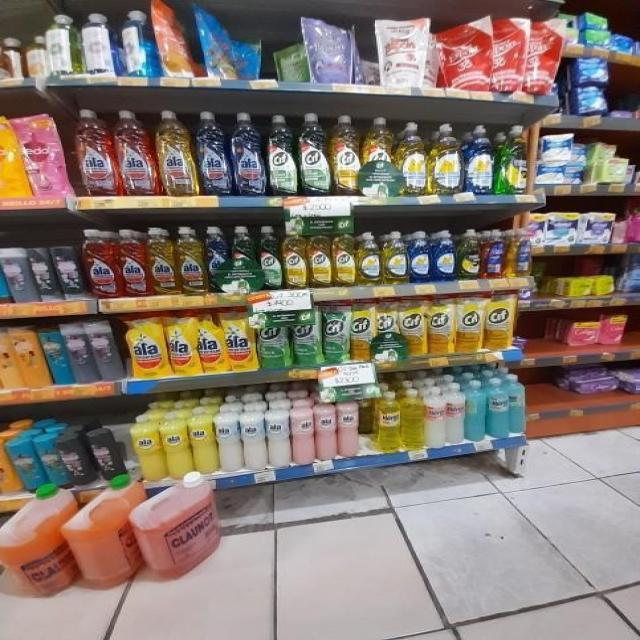ala_conc_amarillo: (156, 109, 195, 197), (147, 227, 175, 296), (177, 227, 205, 295)
ala_conc_azul: (231, 111, 265, 197), (196, 110, 229, 196), (206, 226, 230, 294)
ala_conc_rojo: (74, 108, 114, 197), (117, 109, 155, 197), (83, 228, 118, 299), (118, 228, 146, 298)
ala_crem_amarillo: (131, 415, 162, 481), (163, 409, 189, 479), (190, 406, 215, 475)
ala_crem_blanco: (242, 406, 266, 471), (217, 407, 240, 473), (266, 405, 290, 468)
ala_crem_rosado: (292, 403, 314, 466), (316, 401, 336, 462), (338, 401, 359, 459)
ala_sachet_amarillo: (127, 314, 166, 380), (225, 309, 256, 372), (168, 313, 196, 376), (197, 311, 224, 374)
cif_conc_bot_amarilla: (362, 116, 396, 196), (332, 114, 361, 196), (283, 226, 307, 289), (309, 229, 331, 289), (333, 230, 355, 287)
cif_conc_botella_verde: (266, 114, 297, 196), (299, 112, 329, 196), (231, 225, 258, 293), (259, 226, 282, 290)
cif_conc_sachet_amarillo: (486, 292, 516, 351), (456, 294, 484, 354), (374, 300, 401, 361), (428, 296, 454, 356), (349, 301, 374, 362), (401, 298, 426, 357)
cif_conc_sachet_verde: (257, 309, 290, 370), (292, 306, 320, 368), (323, 303, 349, 365)
heroe: (488, 379, 508, 439), (447, 382, 465, 445)
magistral_con_amarillo: (430, 122, 462, 195), (398, 121, 428, 196), (356, 231, 382, 286), (382, 231, 408, 284)
magistral_con_azul: (464, 123, 494, 195), (432, 230, 456, 282), (408, 231, 431, 283)
magistral_con_verde: (457, 228, 481, 280)
zorro: (482, 229, 506, 279)
